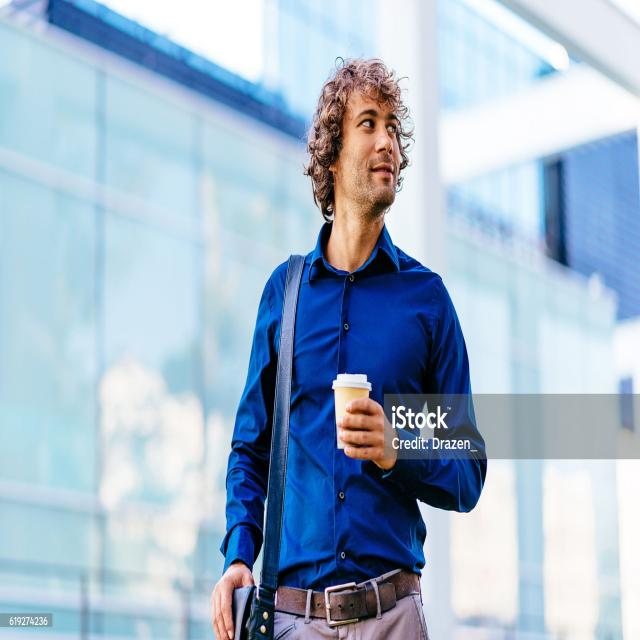cup: (330, 367, 373, 459)
